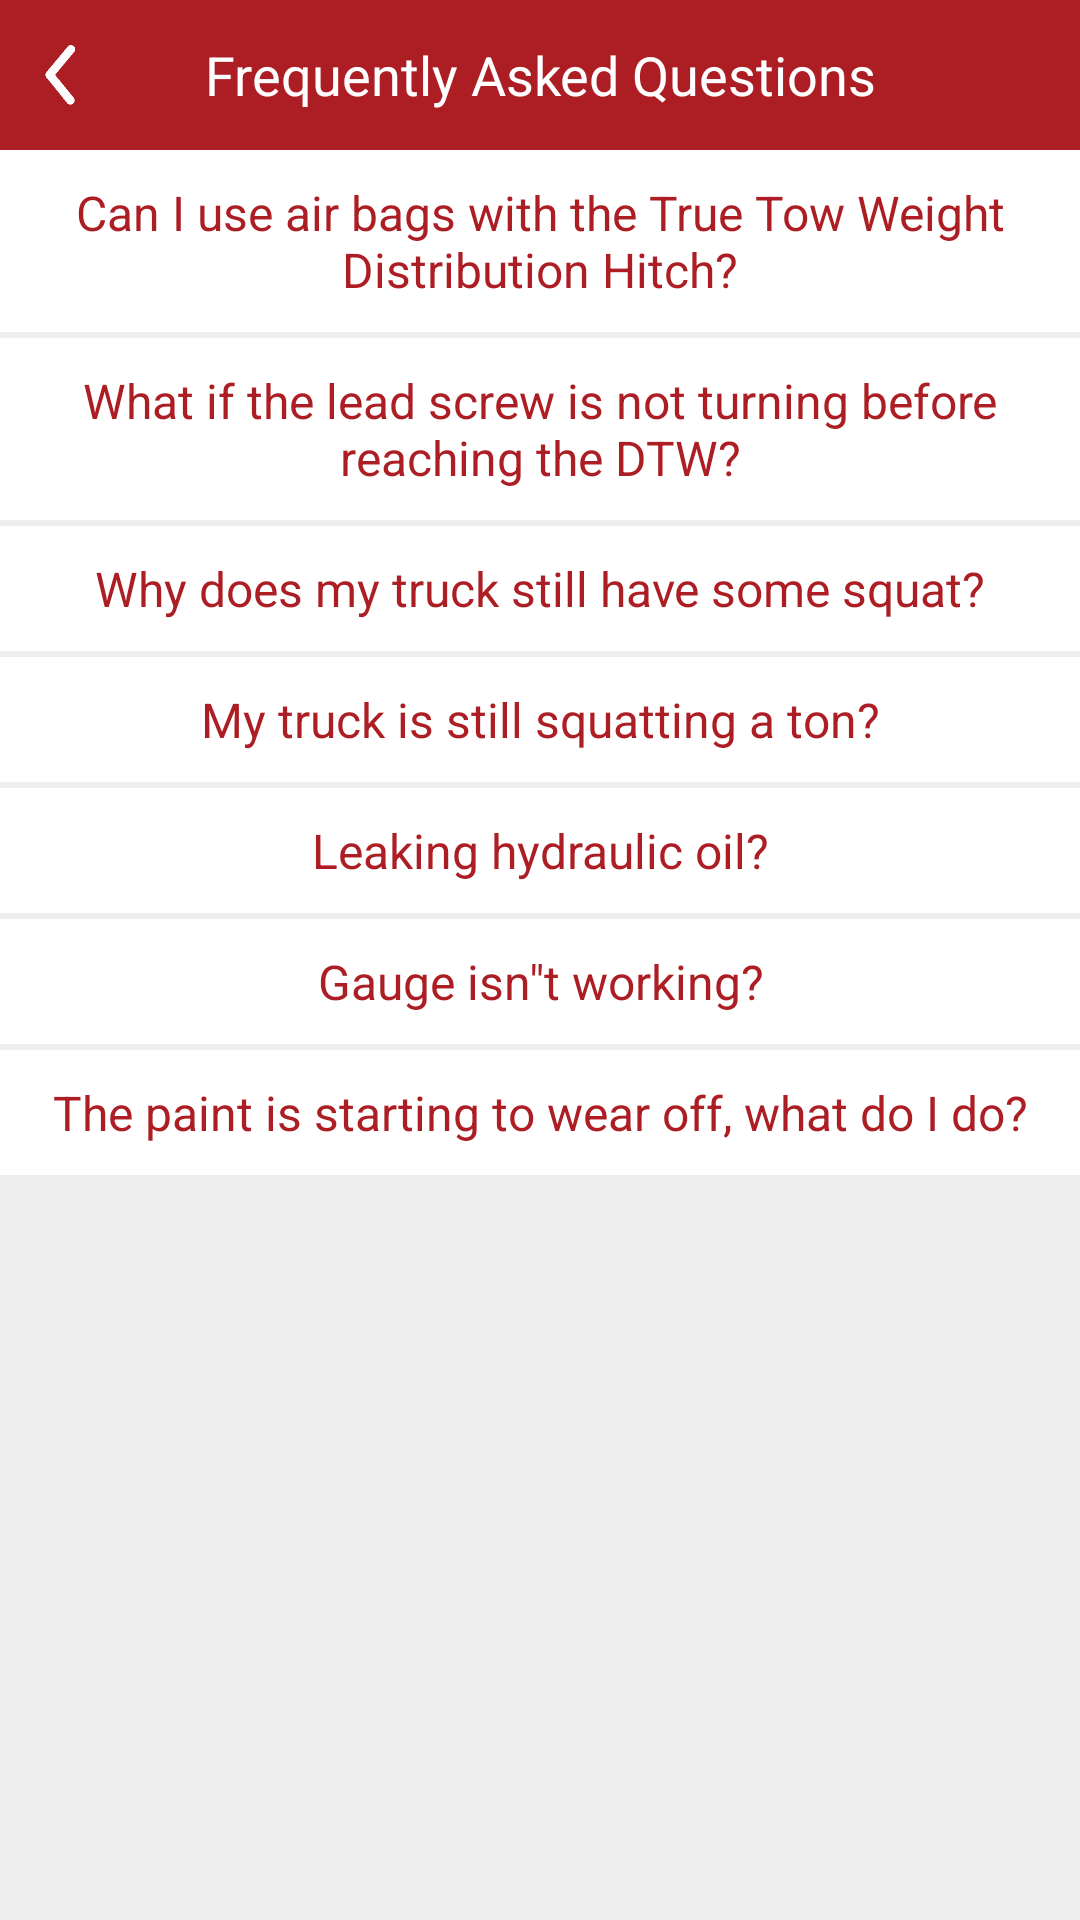

Named icons in this screenshot (1080px×1920px) and their bounding boxes, (x1, y1, x2, y2):
back: (45, 45, 75, 105)
